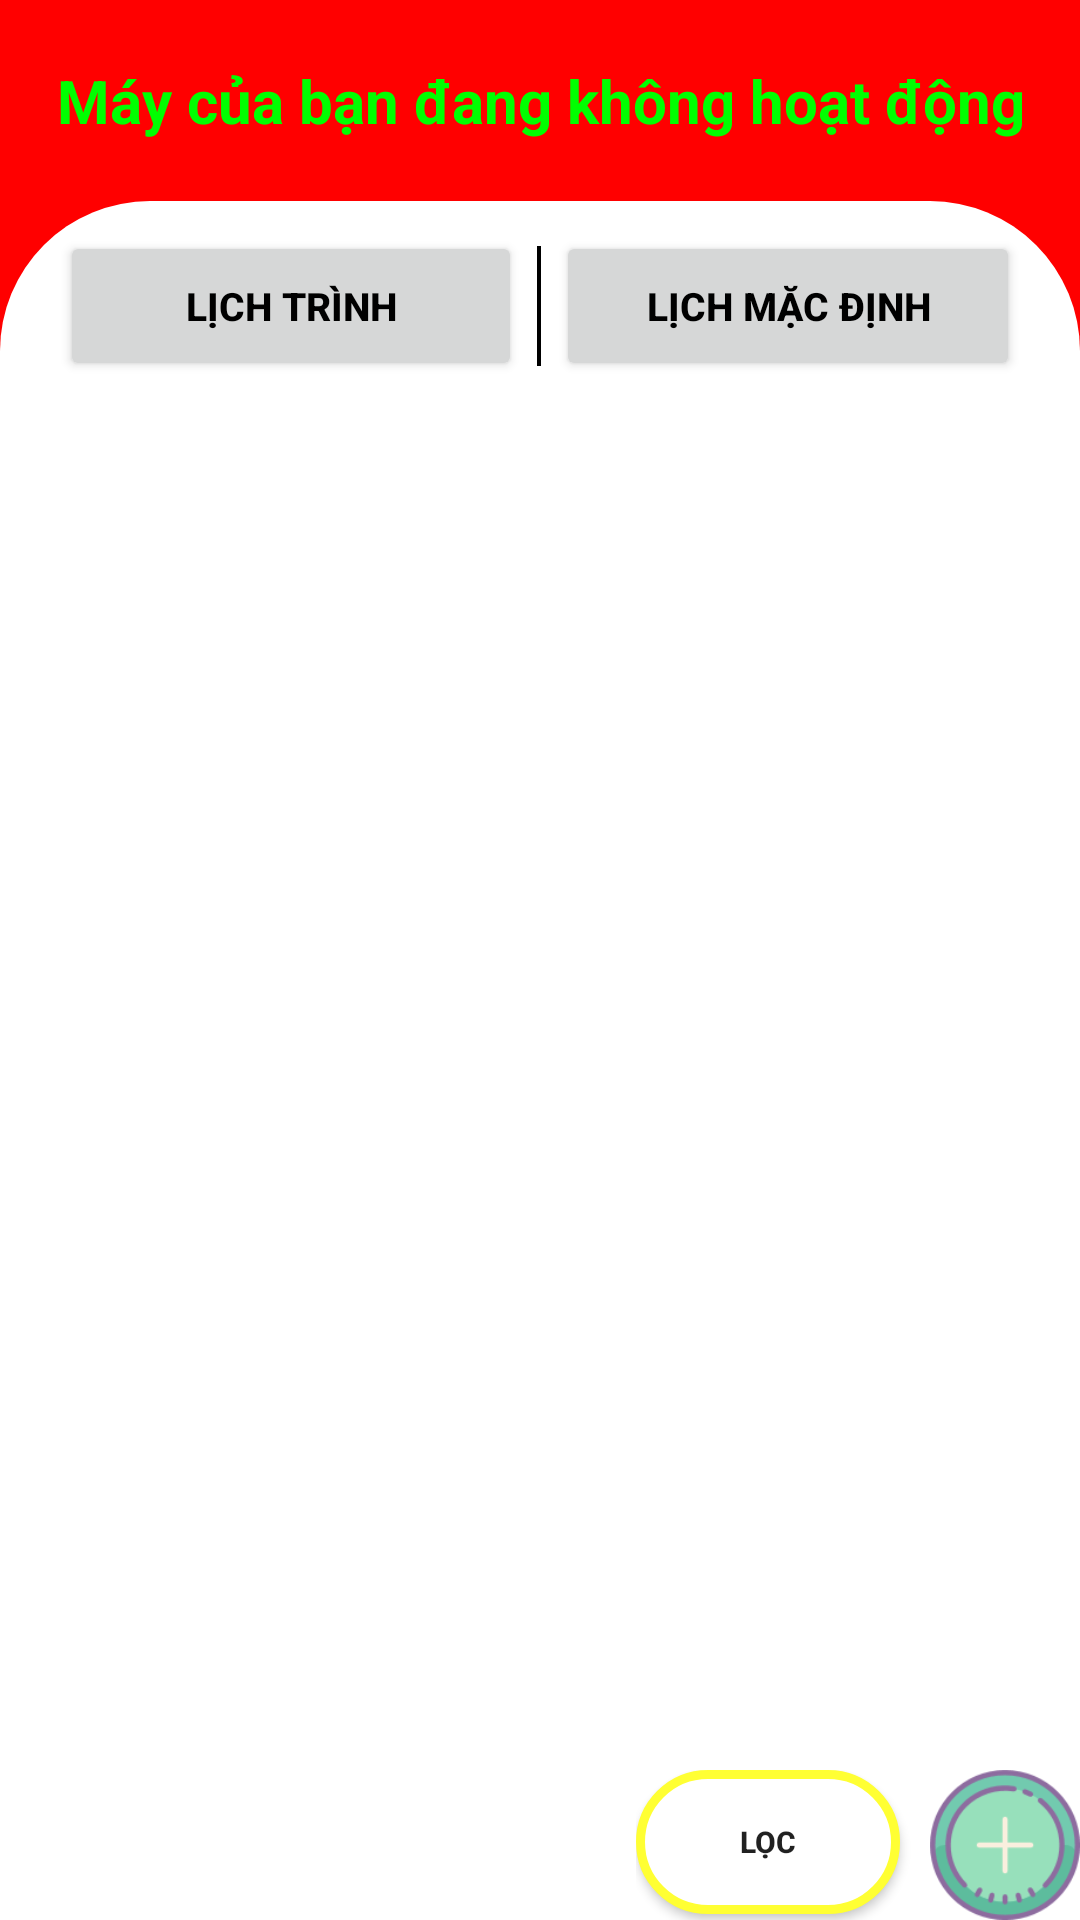

Where to tap for icons on this 1080 x 1920 app screen, as (x,y):
add: (1005,1845)
